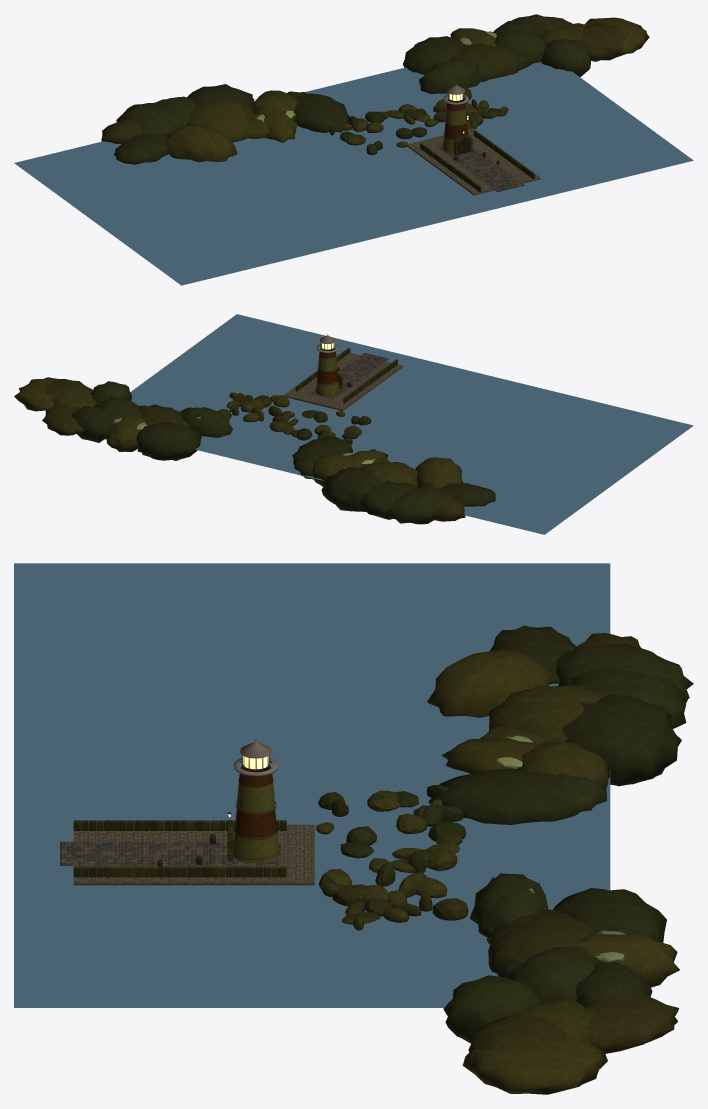
The model's file is lighthouse-2.glb.
3 renders of one model, top to bottom at view 1: azimuth 30°, elevation 25°; view 2: azimuth 150°, elevation 25°; view 3: azimuth 270°, elevation 25°, orthographic. The views are drawn at different scales.
Visible parts, largest first — view 1: Ocean beside the tower, Broken cliffs on the far shore.001, Granite boulders at the tide line.001, Stone headland courtyard, Lighthouse approach slabs, Painted lighthouse masonry.001, Courtyard granite sea wall; view 2: Ocean beside the tower, Broken cliffs on the far shore.001, Granite boulders at the tide line.001, Stone headland courtyard, Lighthouse approach slabs, Painted lighthouse masonry.001, Courtyard granite sea wall; view 3: Ocean beside the tower, Broken cliffs on the far shore.001, Granite boulders at the tide line.001, Stone headland courtyard, Lighthouse approach slabs, Courtyard granite sea wall, Painted lighthouse masonry.001.
Boxes of the visible parts, bbox=[...] form: Ocean beside the tower: bbox=[14, 62, 693, 285]; Broken cliffs on the far shore.001: bbox=[101, 14, 649, 164]; Granite boulders at the tide line.001: bbox=[329, 87, 508, 154]; Stone headland courtyard: bbox=[406, 128, 540, 195]; Lighthouse approach slabs: bbox=[436, 145, 524, 191]; Painted lighthouse masonry.001: bbox=[442, 98, 468, 153]; Courtyard granite sea wall: bbox=[420, 130, 534, 191]; Ocean beside the tower: bbox=[130, 314, 693, 534]; Broken cliffs on the far shore.001: bbox=[14, 377, 495, 524]; Granite boulders at the tide line.001: bbox=[218, 392, 371, 443]; Stone headland courtyard: bbox=[284, 351, 403, 411]; Lighthouse approach slabs: bbox=[310, 353, 388, 399]; Painted lighthouse masonry.001: bbox=[315, 347, 339, 396]; Courtyard granite sea wall: bbox=[295, 348, 397, 403]; Ocean beside the tower: bbox=[14, 563, 610, 1007]; Broken cliffs on the far shore.001: bbox=[427, 625, 693, 1094]; Granite boulders at the tide line.001: bbox=[316, 785, 468, 930]; Stone headland courtyard: bbox=[73, 824, 314, 885]; Lighthouse approach slabs: bbox=[60, 841, 280, 865]; Courtyard granite sea wall: bbox=[73, 820, 286, 877]; Painted lighthouse masonry.001: bbox=[233, 765, 280, 863].
Bounding box in the file's own units: 98.51 × 13.51 × 53.61.
8 materials, 3 textured.
